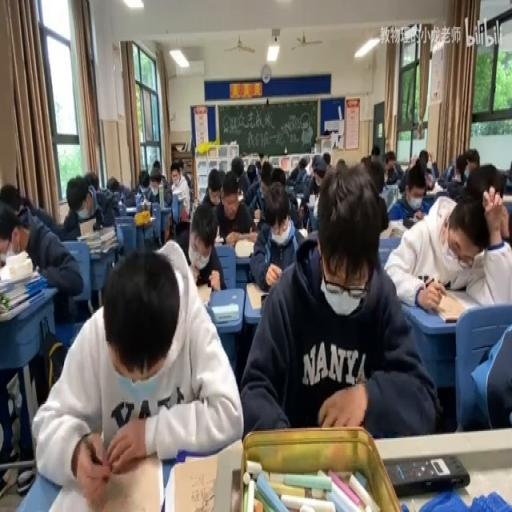calculator: (166, 453, 220, 512), (419, 284, 464, 323), (210, 302, 238, 322), (380, 182, 398, 212), (378, 219, 404, 238), (233, 238, 254, 256), (196, 282, 212, 304), (130, 215, 154, 226), (136, 194, 150, 208), (425, 186, 440, 196), (296, 227, 307, 239), (213, 234, 224, 244), (125, 205, 137, 213), (308, 193, 314, 205), (237, 189, 243, 201), (505, 192, 512, 202), (294, 192, 303, 199)
paper: (34, 239, 240, 508), (239, 160, 432, 440), (0, 196, 83, 327), (461, 165, 512, 257), (186, 202, 224, 290), (58, 174, 106, 240), (214, 171, 253, 243), (258, 168, 299, 230), (302, 150, 332, 218), (168, 159, 190, 242), (142, 162, 172, 222), (156, 236, 189, 282), (438, 154, 470, 198), (198, 165, 222, 210), (360, 156, 386, 195), (105, 174, 133, 209), (382, 150, 404, 186), (0, 183, 24, 215), (497, 169, 511, 195), (230, 156, 244, 180), (259, 160, 272, 184), (84, 170, 99, 190), (286, 165, 298, 186), (418, 150, 428, 174), (246, 165, 257, 183), (138, 172, 148, 189), (430, 159, 438, 179), (298, 156, 308, 170), (254, 158, 262, 175), (150, 171, 161, 182), (336, 156, 346, 168), (322, 150, 330, 164), (370, 144, 379, 156), (151, 158, 160, 169), (182, 164, 188, 176), (508, 160, 512, 176)
person: (384, 454, 470, 496), (230, 466, 242, 510), (258, 293, 268, 311), (402, 218, 418, 228), (18, 206, 26, 218), (445, 314, 457, 322)
